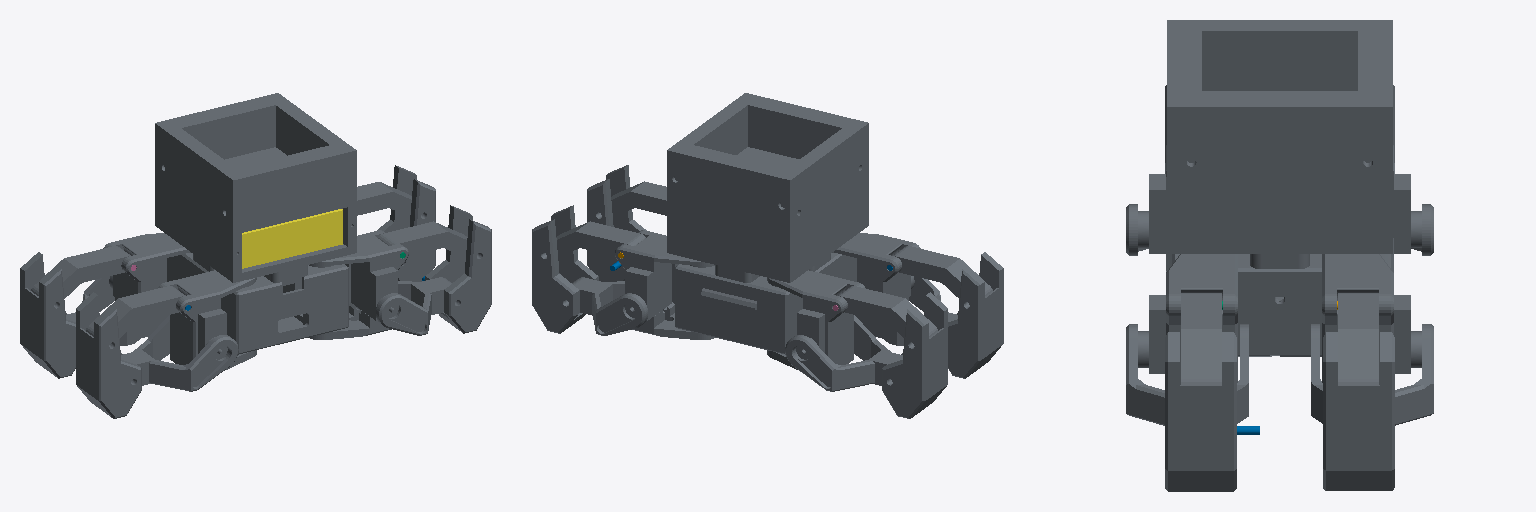
--- What the picture shows (computed from the rendered views, not written in the file) ---
3 views of the same robot in one strip: view 1: azimuth 30°, elevation 25°; view 2: azimuth 150°, elevation 25°; view 3: azimuth 270°, elevation 25° (orthographic).
Model brutus with 44 links and 43 joints (12 revolute, 31 fixed), rooted at chasis_link, posed all joints at 0.
Visible links, largest first — view 1: up_box_link, chasis_link, foot_link_bl, foot_link_fl, foot_link_br, leg_bottom_link_bl, battery, leg_elbow_bl, leg_elbow_fl, leg_elbow_br, leg_bottom_link_br, chasis_cover_link (+8 smaller); view 2: up_box_link, chasis_link, foot_link_fl, foot_link_bl, foot_link_fr, leg_bottom_link_fl, leg_elbow_fl, leg_elbow_bl, leg_elbow_fr, chasis_cover_link, leg_bottom_link_fr, foot_link_br (+7 smaller); view 3: up_box_link, foot_link_br, foot_link_fr, chasis_link, leg_elbow_br, leg_elbow_fr, upper_link_br, upper_link_fr, leg_bottom_link_br, leg_bottom_link_fr, chasis_cover_link, servo_bl_leg (+5 smaller).
Link boxes in pixels (left/top/right/bottom): up_box_link: left=155, top=93, right=356, bottom=282; chasis_link: left=167, top=257, right=348, bottom=354; foot_link_bl: left=76, top=292, right=141, bottom=418; foot_link_fl: left=20, top=252, right=75, bottom=378; foot_link_br: left=425, top=205, right=491, bottom=333; leg_bottom_link_bl: left=121, top=315, right=238, bottom=391; battery: left=242, top=209, right=342, bottom=268; leg_elbow_bl: left=158, top=270, right=256, bottom=369; leg_elbow_fl: left=103, top=233, right=189, bottom=337; leg_elbow_br: left=308, top=230, right=408, bottom=339; leg_bottom_link_br: left=376, top=277, right=451, bottom=335; chasis_cover_link: left=170, top=253, right=348, bottom=305; up_box_link: left=667, top=93, right=868, bottom=282; chasis_link: left=675, top=257, right=856, bottom=354; foot_link_fl: left=882, top=292, right=947, bottom=418; foot_link_bl: left=948, top=252, right=1003, bottom=378; foot_link_fr: left=532, top=205, right=598, bottom=333; leg_bottom_link_fl: left=785, top=315, right=902, bottom=391; leg_elbow_fl: left=767, top=270, right=865, bottom=369; leg_elbow_bl: left=834, top=233, right=920, bottom=337; leg_elbow_fr: left=615, top=230, right=714, bottom=339; chasis_cover_link: left=675, top=253, right=852, bottom=305; leg_bottom_link_fr: left=572, top=277, right=647, bottom=335; foot_link_br: left=587, top=165, right=646, bottom=281; up_box_link: left=1167, top=20, right=1392, bottom=253; foot_link_br: left=1165, top=332, right=1236, bottom=491; foot_link_fr: left=1323, top=332, right=1394, bottom=490; chasis_link: left=1238, top=238, right=1393, bottom=356; leg_elbow_br: left=1166, top=254, right=1237, bottom=384; leg_elbow_fr: left=1322, top=254, right=1393, bottom=384; upper_link_br: left=1181, top=293, right=1221, bottom=384; upper_link_fr: left=1338, top=293, right=1378, bottom=384; leg_bottom_link_br: left=1126, top=324, right=1248, bottom=425; leg_bottom_link_fr: left=1311, top=324, right=1433, bottom=425; chasis_cover_link: left=1172, top=254, right=1387, bottom=301; servo_bl_leg: left=1138, top=174, right=1166, bottom=253.
Size in the robot's own frame: 0.2163 by 0.1025 by 0.1103 metres.
Meshes: 31 distinct files referenced, 31 mesh visuals loaded (31 Collada DAE).

robot.urdf — brutus:
<?xml version="1.0" ?>
<robot name="brutus">
  <!--Generated by RobotCAD, a ROS Workbench for FreeCAD (https://github.com/drfenixion/freecad.robotcad)-->
  <link name="chasis_link">
    <visual>
      <!--chasis_solid001/chasis_solid001.-->
      <origin rpy="0 0 0" xyz="0.0 0.0 0.0"/>
      <geometry>
        <mesh filename="package://brutus/meshes/robot_chasis_solid_gh7xs0.dae"/>
      </geometry>
    </visual>
    <collision>
      <!--chasis_solid-->
      <origin rpy="0 0 0" xyz="0.0 0.0 0.0"/>
      <geometry>
        <mesh filename="package://brutus/meshes/robot_chasis_solid_wpln47.dae"/>
      </geometry>
    </collision>
    <inertial>
      <mass value="0.104"/>
      <origin rpy="0 0 0" xyz="0.0 0.0 0.0"/>
      <inertia ixx="0.0" ixy="0.0" ixz="0.0" iyy="0.0" iyz="0.0" izz="0.0"/>
    </inertial>
  </link>
  <link name="chasis_cover_link">
    <visual>
      <!--chasis_top001/chasis_top001.-->
      <origin rpy="0 0 3.141592653589793" xyz="0.0 0.0 0.0"/>
      <geometry>
        <mesh filename="package://brutus/meshes/robot_chasis_top_rj7fnb.dae"/>
      </geometry>
    </visual>
    <collision>
      <!--chasis_top-->
      <origin rpy="0 0 0" xyz="0.0 0.0 0.0"/>
      <geometry>
        <mesh filename="package://brutus/meshes/robot_chasis_top_9hl3hy.dae"/>
      </geometry>
    </collision>
  </link>
  <link name="spacer_fr">
    <visual>
      <!--spacer_body001/spacer_body002.-->
      <origin rpy="0 0 0" xyz="0.0 0.0 0.0"/>
      <geometry>
        <mesh filename="package://brutus/meshes/robot_spacer_body_pfkzkm.dae"/>
      </geometry>
    </visual>
    <collision>
      <!--spacer_body001/spacer_body002.-->
      <origin rpy="0 0 0" xyz="0.0 0.0 0.0"/>
      <geometry>
        <mesh filename="package://brutus/meshes/robot_spacer_body_ykg5ow.dae"/>
      </geometry>
    </collision>
  </link>
  <link name="spacer_fl">
    <visual>
      <!--spacer_body003/spacer_body004.-->
      <origin rpy="0 0 0" xyz="0.0 0.0 0.0"/>
      <geometry>
        <mesh filename="package://brutus/meshes/robot_spacer_body_qm9ood.dae"/>
      </geometry>
    </visual>
    <collision>
      <!--spacer_body003/spacer_body004.-->
      <origin rpy="0 0 0" xyz="0.0 0.0 0.0"/>
      <geometry>
        <mesh filename="package://brutus/meshes/robot_spacer_body_qdzdlv.dae"/>
      </geometry>
    </collision>
  </link>
  <link name="spacer_br">
    <visual>
      <!--spacer_body005/spacer_body006.-->
      <origin rpy="0 0 0" xyz="0.0 0.0 0.0"/>
      <geometry>
        <mesh filename="package://brutus/meshes/robot_spacer_body_rywx4e.dae"/>
      </geometry>
    </visual>
    <collision>
      <!--spacer_body005/spacer_body006.-->
      <origin rpy="0 0 0" xyz="0.0 0.0 0.0"/>
      <geometry>
        <mesh filename="package://brutus/meshes/robot_spacer_body_sptmy1.dae"/>
      </geometry>
    </collision>
  </link>
  <link name="spacer_bl">
    <visual>
      <!--spacer_body007/spacer_body008.-->
      <origin rpy="0 0 0" xyz="0.0 0.0 0.0"/>
      <geometry>
        <mesh filename="package://brutus/meshes/robot_spacer_body_epfjej.dae"/>
      </geometry>
    </visual>
    <collision>
      <!--spacer_body007/spacer_body008.-->
      <origin rpy="0 0 0" xyz="0.0 0.0 0.0"/>
      <geometry>
        <mesh filename="package://brutus/meshes/robot_spacer_body_en0t2a.dae"/>
      </geometry>
    </collision>
  </link>
  <link name="leg_elbow_br">
    <visual>
      <!--elbow_br001/elbow_br001.-->
      <origin rpy="0 0 0" xyz="0.0 0.0 0.0"/>
      <geometry>
        <mesh filename="package://brutus/meshes/robot_elbow_br_ijcs8k.dae"/>
      </geometry>
    </visual>
    <collision>
      <!--elbow_br001/elbow_br001.-->
      <origin rpy="0 0 0" xyz="0.0 0.0 0.0"/>
      <geometry>
        <mesh filename="package://brutus/meshes/robot_elbow_br_jcowuw.dae"/>
      </geometry>
    </collision>
  </link>
  <link name="leg_elbow_bl">
    <visual>
      <!--elbow_bl001/elbow_bl001.-->
      <origin rpy="0 0 0" xyz="0.0 0.0 0.0"/>
      <geometry>
        <mesh filename="package://brutus/meshes/robot_elbow_bl_22bifq.dae"/>
      </geometry>
    </visual>
    <collision>
      <!--elbow_bl001/elbow_bl001.-->
      <origin rpy="0 0 0" xyz="0.0 0.0 0.0"/>
      <geometry>
        <mesh filename="package://brutus/meshes/robot_elbow_bl_dyfjfb.dae"/>
      </geometry>
    </collision>
  </link>
  <link name="leg_elbow_fl">
    <visual>
      <!--elbow_fl003/elbow_fl003.elbow_fl001.-->
      <origin rpy="0 0 0" xyz="0.0 0.0 0.0"/>
      <geometry>
        <mesh filename="package://brutus/meshes/robot_elbow_fl_k9nt1j.dae"/>
      </geometry>
    </visual>
    <collision>
      <!--Eje Z-->
      <origin rpy="-1.5707963267948963 0 -1.5707963267948963" xyz="0.0 0.0 0.0"/>
      <geometry>
        <mesh filename="package://brutus/meshes/robot_ejez_rchdmf.dae"/>
      </geometry>
    </collision>
    <collision>
      <!--elbow_fl001/elbow_fl001.-->
      <origin rpy="0 0 0" xyz="0.0 0.0 0.0"/>
      <geometry>
        <mesh filename="package://brutus/meshes/robot_elbow_fl_rbnczm.dae"/>
      </geometry>
    </collision>
    <collision>
      <!--elbow_fl003/elbow_fl003.elbow_fl001.-->
      <origin rpy="0 0 0" xyz="0.0 0.0 0.0"/>
      <geometry>
        <mesh filename="package://brutus/meshes/robot_elbow_fl_busnly.dae"/>
      </geometry>
    </collision>
  </link>
  <link name="leg_elbow_fr">
    <visual>
      <!--elbow_fr003/elbow_fr003.-->
      <origin rpy="0 0 0" xyz="0.0 0.0 0.0"/>
      <geometry>
        <mesh filename="package://brutus/meshes/robot_elbow_fr_nicggp.dae"/>
      </geometry>
    </visual>
    <collision>
      <!--elbow_fr003/elbow_fr003.-->
      <origin rpy="0 0 0" xyz="0.0 0.0 0.0"/>
      <geometry>
        <mesh filename="package://brutus/meshes/robot_elbow_fr_y02wcm.dae"/>
      </geometry>
    </collision>
  </link>
  <link name="leg_upper_axis_br">
    <visual>
      <!--upper_axis001/upper_axis001.-->
      <origin rpy="0 0 0" xyz="0.0 0.0 0.012"/>
      <geometry>
        <cylinder length="0.024" radius="0.0015"/>
      </geometry>
    </visual>
  </link>
  <link name="upper_link_br">
    <visual>
      <!--upper_link001/upper_link001.-->
      <origin rpy="0 0 0" xyz="0.0 0.0 0.0"/>
      <geometry>
        <mesh filename="package://brutus/meshes/robot_upper_link_3mok0l.dae"/>
      </geometry>
    </visual>
  </link>
  <link name="leg_upper_axis_bl">
    <visual>
      <!--upper_axis003/upper_axis003.-->
      <origin rpy="0 0 0" xyz="0.0 0.0 0.012"/>
      <geometry>
        <cylinder length="0.024" radius="0.0015"/>
      </geometry>
    </visual>
  </link>
  <link name="upper_link_bl">
    <visual>
      <!--upper_link003/upper_link003.-->
      <origin rpy="0 0 0" xyz="0.0 0.0 0.0"/>
      <geometry>
        <mesh filename="package://brutus/meshes/robot_upper_link_2rlvkm.dae"/>
      </geometry>
    </visual>
  </link>
  <link name="leg_upper_axis_fl">
    <visual>
      <!--upper_axis005/upper_axis005.-->
      <origin rpy="0 0 0" xyz="0.0 0.0 0.012"/>
      <geometry>
        <cylinder length="0.024" radius="0.0015"/>
      </geometry>
    </visual>
  </link>
  <link name="upper_link_fl">
    <visual>
      <!--upper_link005/upper_link005.-->
      <origin rpy="0 0 0" xyz="0.0 0.0 0.0"/>
      <geometry>
        <mesh filename="package://brutus/meshes/robot_upper_link_umbvcy.dae"/>
      </geometry>
    </visual>
  </link>
  <link name="leg_upper_axis_fr">
    <visual>
      <!--upper_axis007/upper_axis007.-->
      <origin rpy="0 0 0" xyz="0.0 0.0 0.012"/>
      <geometry>
        <cylinder length="0.024" radius="0.0015"/>
      </geometry>
    </visual>
  </link>
  <link name="upper_link_fr">
    <visual>
      <!--upper_link007/upper_link007.-->
      <origin rpy="0 0 0" xyz="0.0 0.0 0.0"/>
      <geometry>
        <mesh filename="package://brutus/meshes/robot_upper_link_ggszxc.dae"/>
      </geometry>
    </visual>
  </link>
  <link name="leg_bottom_axis_br">
    <visual>
      <!--lower_axis002/lower_axis002.-->
      <origin rpy="0 0 0" xyz="0.0 0.0 0.01"/>
      <geometry>
        <cylinder length="0.02" radius="0.002"/>
      </geometry>
    </visual>
    <collision>
      <!--lower_axis002/lower_axis002.-->
      <origin rpy="0 0 0" xyz="0.0 0.0 0.01"/>
      <geometry>
        <cylinder length="0.02" radius="0.002"/>
      </geometry>
    </collision>
  </link>
  <link name="leg_bottom_axis_fl">
    <visual>
      <!--lower_axis004/lower_axis003.-->
      <origin rpy="0 0 0" xyz="0.0 0.0 0.01"/>
      <geometry>
        <cylinder length="0.02" radius="0.002"/>
      </geometry>
    </visual>
    <collision>
      <!--lower_axis004/lower_axis003.-->
      <origin rpy="0 0 0" xyz="0.0 0.0 0.01"/>
      <geometry>
        <cylinder length="0.02" radius="0.002"/>
      </geometry>
    </collision>
  </link>
  <link name="leg_bottom_link_br">
    <visual>
      <!--left_bottom_link001/left_bottom_link001.-->
      <origin rpy="0 0 0" xyz="0.0 0.0 0.0"/>
      <geometry>
        <mesh filename="package://brutus/meshes/robot_left_bottom_link_mwapaw.dae"/>
      </geometry>
    </visual>
  </link>
  <link name="leg_bottom_link_fl">
    <visual>
      <!--left_bottom_link005/left_bottom_link005.-->
      <origin rpy="0 0 0" xyz="0.0 0.0 0.0"/>
      <geometry>
        <mesh filename="package://brutus/meshes/robot_left_bottom_link_54hzm8.dae"/>
      </geometry>
    </visual>
  </link>
  <link name="leg_bottom_axis_bl">
    <visual>
      <!--lower_axis008/lower_axis007.-->
      <origin rpy="0 0 0" xyz="0.0 0.0 0.01"/>
      <geometry>
        <cylinder length="0.02" radius="0.002"/>
      </geometry>
    </visual>
  </link>
  <link name="leg_bottom_link_bl">
    <visual>
      <!--right_bottom_link001/right_bottom_link001.-->
      <origin rpy="0 0 0" xyz="0.0 0.0 0.0"/>
      <geometry>
        <mesh filename="package://brutus/meshes/robot_right_bottom_link_nm1jks.dae"/>
      </geometry>
    </visual>
  </link>
  <link name="leg_bottom_axis_fr">
    <visual>
      <!--lower_axis010/lower_axis009.-->
      <origin rpy="0 0 0" xyz="0.0 0.0 0.01"/>
      <geometry>
        <cylinder length="0.02" radius="0.002"/>
      </geometry>
    </visual>
  </link>
  <link name="leg_bottom_link_fr">
    <visual>
      <!--right_bottom_link003/right_bottom_link003.-->
      <origin rpy="0 0 0" xyz="0.0 0.0 0.0"/>
      <geometry>
        <mesh filename="package://brutus/meshes/robot_right_bottom_link_eam2j3.dae"/>
      </geometry>
    </visual>
  </link>
  <link name="foot_axis_fr">
    <visual>
      <!--foot_axis001/foot_axis001.-->
      <origin rpy="0 0 0" xyz="0.0 0.0 0.0065"/>
      <geometry>
        <cylinder length="0.013" radius="0.0015"/>
      </geometry>
    </visual>
  </link>
  <link name="foot_link_fr">
    <visual>
      <!--foot001/foot001.-->
      <origin rpy="0 0 0" xyz="0.0 0.0 0.0"/>
      <geometry>
        <mesh filename="package://brutus/meshes/robot_foot_6evywk.dae"/>
      </geometry>
    </visual>
  </link>
  <link name="foot_axis_br">
    <visual>
      <!--foot_axis003/foot_axis003.-->
      <origin rpy="0 0 0" xyz="0.0 0.0 0.0065"/>
      <geometry>
        <cylinder length="0.013" radius="0.0015"/>
      </geometry>
    </visual>
  </link>
  <link name="foot_link_br">
    <visual>
      <!--foot003/foot003.-->
      <origin rpy="0 0 0" xyz="0.0 0.0 0.0"/>
      <geometry>
        <mesh filename="package://brutus/meshes/robot_foot_eruimg.dae"/>
      </geometry>
    </visual>
  </link>
  <link name="foot_axis_fl">
    <visual>
      <!--foot_axis005/foot_axis005.-->
      <origin rpy="0 0 0" xyz="0.0 0.0 0.0065"/>
      <geometry>
        <cylinder length="0.013" radius="0.0015"/>
      </geometry>
    </visual>
  </link>
  <link name="foot_link_fl">
    <visual>
      <!--foot005/foot005.-->
      <origin rpy="0 0 0" xyz="0.0 0.0 0.0"/>
      <geometry>
        <mesh filename="package://brutus/meshes/robot_foot_z7rhv3.dae"/>
      </geometry>
    </visual>
  </link>
  <link name="foot_axis_bl">
    <visual>
      <!--foot_axis007/foot_axis007.-->
      <origin rpy="0 0 0" xyz="0.0 0.0 0.0065"/>
      <geometry>
        <cylinder length="0.013" radius="0.0015"/>
      </geometry>
    </visual>
  </link>
  <link name="foot_link_bl">
    <visual>
      <!--foot007/foot007.-->
      <origin rpy="0 0 0" xyz="0.0 0.0 0.0"/>
      <geometry>
        <mesh filename="package://brutus/meshes/robot_foot_wkfqst.dae"/>
      </geometry>
    </visual>
  </link>
  <link name="servo_br_chasis">
    <visual>
      <!--servo001/servo001.-->
      <origin rpy="0 0 0" xyz="0.0 0.0 0.0"/>
      <geometry>
        <mesh filename="package://brutus/meshes/robot_servo_gzkmtc.dae"/>
      </geometry>
    </visual>
    <inertial>
      <mass value="0.009000000000000001"/>
      <origin rpy="0 0 0" xyz="0.0 0.0 0.0"/>
      <inertia ixx="0.0" ixy="0.0" ixz="0.0" iyy="0.0" iyz="0.0" izz="0.0"/>
    </inertial>
  </link>
  <link name="servo_fr_chasis">
    <visual>
      <!--servo003/servo003.-->
      <origin rpy="0 0 0" xyz="0.0 0.0 0.0"/>
      <geometry>
        <mesh filename="package://brutus/meshes/robot_servo_lm7nas.dae"/>
      </geometry>
    </visual>
    <inertial>
      <mass value="0.009000000000000001"/>
      <origin rpy="0 0 0" xyz="0.0 0.0 0.0"/>
      <inertia ixx="0.0" ixy="0.0" ixz="0.0" iyy="0.0" iyz="0.0" izz="0.0"/>
    </inertial>
  </link>
  <link name="servo_bl_chasis">
    <visual>
      <!--servo005/servo005.-->
      <origin rpy="0 0 0" xyz="0.0 0.0 0.0"/>
      <geometry>
        <mesh filename="package://brutus/meshes/robot_servo_uk13q0.dae"/>
      </geometry>
    </visual>
    <inertial>
      <mass value="0.009000000000000001"/>
      <origin rpy="0 0 0" xyz="0.0 0.0 0.0"/>
      <inertia ixx="0.0" ixy="0.0" ixz="0.0" iyy="0.0" iyz="0.0" izz="0.0"/>
    </inertial>
  </link>
  <link name="servo_fl_chasis">
    <visual>
      <!--servo007/servo007.-->
      <origin rpy="0 0 0" xyz="0.0 0.0 0.0"/>
      <geometry>
        <mesh filename="package://brutus/meshes/robot_servo_oiqija.dae"/>
      </geometry>
    </visual>
    <inertial>
      <mass value="0.009000000000000001"/>
      <origin rpy="0 0 0" xyz="0.0 0.0 0.0"/>
      <inertia ixx="0.0" ixy="0.0" ixz="0.0" iyy="0.0" iyz="0.0" izz="0.0"/>
    </inertial>
  </link>
  <link name="servo_br_leg">
    <visual>
      <!--servo009/servo009.-->
      <origin rpy="0 0 0" xyz="0.0 0.0 0.0"/>
      <geometry>
        <mesh filename="package://brutus/meshes/robot_servo_o5juby.dae"/>
      </geometry>
    </visual>
  </link>
  <link name="servo_fr_leg">
    <visual>
      <!--servo011/servo011.-->
      <origin rpy="0 0 0" xyz="0.0 0.0 0.0"/>
      <geometry>
        <mesh filename="package://brutus/meshes/robot_servo_kbicgk.dae"/>
      </geometry>
    </visual>
    <inertial>
      <mass value="0.009000000000000001"/>
      <origin rpy="0 0 0" xyz="0.0 0.0 0.0"/>
      <inertia ixx="0.0" ixy="0.0" ixz="0.0" iyy="0.0" iyz="0.0" izz="0.0"/>
    </inertial>
  </link>
  <link name="servo_bl_leg">
    <visual>
      <!--servo013/servo013.-->
      <origin rpy="0 0 0" xyz="0.0 0.0 0.0"/>
      <geometry>
        <mesh filename="package://brutus/meshes/robot_servo_yposhh.dae"/>
      </geometry>
    </visual>
    <inertial>
      <mass value="0.009000000000000001"/>
      <origin rpy="0 0 0" xyz="0.0 0.0 0.0"/>
      <inertia ixx="0.0" ixy="0.0" ixz="0.0" iyy="0.0" iyz="0.0" izz="0.0"/>
    </inertial>
  </link>
  <link name="servo_fl_leg">
    <visual>
      <!--servo015/servo015.-->
      <origin rpy="0 0 0" xyz="0.0 0.0 0.0"/>
      <geometry>
        <mesh filename="package://brutus/meshes/robot_servo_iojgfp.dae"/>
      </geometry>
    </visual>
    <inertial>
      <mass value="0.009000000000000001"/>
      <origin rpy="0 0 0" xyz="0.0 0.0 0.0"/>
      <inertia ixx="0.0" ixy="0.0" ixz="0.0" iyy="0.0" iyz="0.0" izz="0.0"/>
    </inertial>
  </link>
  <link name="up_box_link">
    <visual>
      <!--up_box001/up_box001.-->
      <origin rpy="0 0 0" xyz="0.0 0.0 0.0"/>
      <geometry>
        <mesh filename="package://brutus/meshes/robot_up_box_hkhjvv.dae"/>
      </geometry>
    </visual>
  </link>
  <link name="battery">
    <visual>
      <!--battery001/battery001.-->
      <origin rpy="0 0 0" xyz="0.028 0.035 0.009"/>
      <geometry>
        <box size="0.056 0.07 0.018"/>
      </geometry>
    </visual>
  </link>





  <joint name="chasis_to_cover" type="fixed">
    <parent link="chasis_link"/>
    <child link="chasis_cover_link"/>
    <origin rpy="0 0 0" xyz="0.0 0.0 0.0208"/>
  </joint>
  <joint name="cover_to_fr_spacer" type="fixed">
    <parent link="chasis_cover_link"/>
    <child link="spacer_fr"/>
    <origin rpy="0 0 0" xyz="0.023 0.023 0.0015"/>
  </joint>
  <joint name="cover_to_fl_spacer" type="fixed">
    <parent link="chasis_cover_link"/>
    <child link="spacer_fl"/>
    <origin rpy="0 0 0" xyz="-0.023 0.023 0.0015"/>
  </joint>
  <joint name="cover_to_br_spacer" type="fixed">
    <parent link="chasis_cover_link"/>
    <child link="spacer_br"/>
    <origin rpy="0 0 0" xyz="0.023 -0.023 0.0015"/>
  </joint>
  <joint name="cover_to_bl_spacer" type="fixed">
    <parent link="chasis_cover_link"/>
    <child link="spacer_bl"/>
    <origin rpy="0 0 0" xyz="-0.023 -0.023 0.0015"/>
  </joint>
  <joint name="spacer_to_leg_elbow_br" type="revolute">
    <parent link="spacer_br"/>
    <child link="leg_elbow_br"/>
    <origin rpy="0 0 0" xyz="0.0 0.0 -0.0175"/>
    <axis xyz="0 0 1"/>
    <limit effort="0.17" lower="-1.0471975511965976" upper="1.0471975511965976" velocity="10.471975511965978"/>
  </joint>
  <joint name="spacer_to_leg_elbow_bl" type="revolute">
    <parent link="spacer_bl"/>
    <child link="leg_elbow_bl"/>
    <origin rpy="0 0 0" xyz="0.0 0.0 -0.0175"/>
    <axis xyz="0 0 1"/>
    <limit effort="0.17" lower="-1.0471975511965976" upper="1.0471975511965976" velocity="10.471975511965978"/>
  </joint>
  <joint name="spacer_to_leg_elbow_fl" type="revolute">
    <parent link="spacer_fl"/>
    <child link="leg_elbow_fl"/>
    <origin rpy="0 0 0" xyz="0.0 0.0 -0.0175"/>
    <axis xyz="0 0 1"/>
    <limit effort="0.17" lower="-1.0471975511965976" upper="1.0471975511965976" velocity="10.471975511965978"/>
  </joint>
  <joint name="spacer_to_leg_elbow_fr" type="revolute">
    <parent link="spacer_fr"/>
    <child link="leg_elbow_fr"/>
    <origin rpy="0 0 0" xyz="0.0 0.0 -0.0175"/>
    <axis xyz="0 0 1"/>
    <limit effort="0.17" lower="-1.0471975511965976" upper="1.0471975511965976" velocity="10.471975511965978"/>
  </joint>
  <joint name="leg_elbow_to_leg_upper_axis_br" type="fixed">
    <parent link="leg_elbow_br"/>
    <child link="leg_upper_axis_br"/>
    <origin rpy="-1.5707963267948968 0 3.141592653589793" xyz="0.036 0.009 0.017"/>
  </joint>
  <joint name="leg_upper_axis_to_upper_link_br" type="fixed">
    <parent link="leg_upper_axis_br"/>
    <child link="upper_link_br"/>
    <origin rpy="0 0 0" xyz="0.0 0.0 0.01197"/>
  </joint>
  <joint name="leg_elbow_to_leg_upper_axis_bl" type="fixed">
    <parent link="leg_elbow_bl"/>
    <child link="leg_upper_axis_bl"/>
    <origin rpy="-1.5707963267948968 0 0" xyz="-0.036 -0.015 0.017"/>
  </joint>
  <joint name="leg_upper_axis_to_upper_link_bl" type="fixed">
    <parent link="leg_upper_axis_bl"/>
    <child link="upper_link_bl"/>
    <origin rpy="0 0 0" xyz="0.0 0.0 0.01197"/>
  </joint>
  <joint name="leg_upper_axis_to_upper_link_fl" type="fixed">
    <parent link="leg_upper_axis_fl"/>
    <child link="upper_link_fl"/>
    <origin rpy="0 0 0" xyz="0.0 0.0 0.01197"/>
  </joint>
  <joint name="leg_elbow_to_leg_upper_axis_fl" type="fixed">
    <parent link="leg_elbow_fl"/>
    <child link="leg_upper_axis_fl"/>
    <origin rpy="-1.5707963267948963 0 0" xyz="-0.036 -0.009 0.017"/>
  </joint>
  <joint name="leg_elbow_to_leg_upper_axis_fr" type="fixed">
    <parent link="leg_elbow_fr"/>
    <child link="leg_upper_axis_fr"/>
    <origin rpy="-1.5707963267948968 0 3.141592653589793" xyz="0.036 0.015 0.017"/>
  </joint>
  <joint name="leg_upper_axis_to_upper_link_fr" type="fixed">
    <parent link="leg_upper_axis_fr"/>
    <child link="upper_link_fr"/>
    <origin rpy="0 0 0" xyz="0.0 0.0 0.01197"/>
  </joint>
  <joint name="leg_elbow_to_leg_bottom_axis_br" type="fixed">
    <parent link="leg_elbow_br"/>
    <child link="leg_bottom_axis_br"/>
    <origin rpy="1.5707963267948963 0 0" xyz="0.02425 0.0 -0.0049"/>
  </joint>
  <joint name="leg_elbow_to_leg_bottom_axis_fl" type="fixed">
    <parent link="leg_elbow_fl"/>
    <child link="leg_bottom_axis_fl"/>
    <origin rpy="1.5707963267948968 0 3.141592653589793" xyz="-0.024 0.0 -0.0049"/>
  </joint>
  <joint name="leg_bottom_axis_to_leg_bottom_link_br" type="revolute">
    <parent link="leg_bottom_axis_br"/>
    <child link="leg_bottom_link_br"/>
    <origin rpy="0 0 0" xyz="0.0 0.0 0.0261"/>
    <axis xyz="0 0 1"/>
    <limit effort="0.17" lower="-1.0471975511965976" upper="1.0471975511965976" velocity="10.471975511965978"/>
  </joint>
  <joint name="leg_bottom_axis_to_leg_bottom_link_fl" type="revolute">
    <parent link="leg_bottom_axis_fl"/>
    <child link="leg_bottom_link_fl"/>
    <origin rpy="0 0 0" xyz="0.0 0.0 0.0261"/>
    <axis xyz="0 0 1"/>
    <limit effort="0.17" lower="-1.0471975511965976" upper="1.0471975511965976" velocity="10.471975511965978"/>
  </joint>
  <joint name="leg_bottom_axis_to_leg_bottom_link_bl" type="revolute">
    <parent link="leg_bottom_axis_bl"/>
    <child link="leg_bottom_link_bl"/>
    <origin rpy="0 0 0" xyz="0.0 0.0 0.0261"/>
    <axis xyz="0 0 1"/>
    <limit effort="0.17" lower="-1.0471975511965976" upper="1.0471975511965976" velocity="10.471975511965978"/>
  </joint>
  <joint name="leg_elbow_to_leg_bottom_axis_bl" type="fixed">
    <parent link="leg_elbow_bl"/>
    <child link="leg_bottom_axis_bl"/>
    <origin rpy="1.5707963267948963 0 0" xyz="-0.024 0.0 -0.0049"/>
  </joint>
  <joint name="leg_elbow_to_leg_bottom_axis_fr" type="fixed">
    <parent link="leg_elbow_fr"/>
    <child link="leg_bottom_axis_fr"/>
    <origin rpy="1.5707963267948968 0 -3.141592653589793" xyz="0.024 0.0 -0.0049"/>
  </joint>
  <joint name="leg_bottom_axis_to_leg_bottom_link_fr" type="revolute">
    <parent link="leg_bottom_axis_fr"/>
    <child link="leg_bottom_link_fr"/>
    <origin rpy="0 0 0" xyz="0.0 0.0 0.0261"/>
    <axis xyz="0 0 1"/>
    <limit effort="0.17" lower="-1.0471975511965976" upper="1.0471975511965976" velocity="10.471975511965978"/>
  </joint>
  <joint name="leg_bottom_link_to_foot_axis_fr" type="fixed">
    <parent link="leg_bottom_link_fr"/>
    <child link="foot_axis_fr"/>
    <origin rpy="0 0 0" xyz="-0.042 -0.01 -0.02935"/>
  </joint>
  <joint name="foot_axis_to_foot_link_fr" type="revolute">
    <parent link="foot_axis_fr"/>
    <child link="foot_link_fr"/>
    <origin rpy="0 0 0" xyz="0.0 0.0 0.0065"/>
    <axis xyz="0 0 1"/>
    <limit effort="-0.17" lower="-1.0471975511965976" upper="1.0471975511965976" velocity="10.471975511965978"/>
  </joint>
  <joint name="leg_bottom_link_to_foot_axis_br" type="fixed">
    <parent link="leg_bottom_link_br"/>
    <child link="foot_axis_br"/>
    <origin rpy="3.141592653589793 0 3.141592653589793" xyz="0.042 -0.01 -0.02935"/>
  </joint>
  <joint name="foot_axis_to_foot_link_br" type="revolute">
    <parent link="foot_axis_br"/>
    <child link="foot_link_br"/>
    <origin rpy="0 0 0" xyz="0.0 0.0 -0.0065"/>
    <axis xyz="0 0 1"/>
    <limit effort="0.17" lower="-1.0471975511965976" upper="1.0471975511965976" velocity="10.471975511965978"/>
  </joint>
  <joint name="leg_bottom_link_to_foot_axis_fl" type="fixed">
    <parent link="leg_bottom_link_fl"/>
    <child link="foot_axis_fl"/>
    <origin rpy="3.141592653589793 0 3.141592653589793" xyz="0.042 -0.01 -0.01635"/>
  </joint>
  <joint name="foot_axis_to_foot_link_fl" type="revolute">
    <parent link="foot_axis_fl"/>
    <child link="foot_link_fl"/>
    <origin rpy="0 0 0" xyz="0.0 0.0 0.0065"/>
    <axis xyz="0 0 1"/>
    <limit effort="0.17" lower="-1.0471975511965976" upper="1.0471975511965976" velocity="10.471975511965978"/>
  </joint>
  <joint name="leg_bottom_link_to_foot_axis_bl" type="fixed">
    <parent link="leg_bottom_link_bl"/>
    <child link="foot_axis_bl"/>
    <origin rpy="0 0 0" xyz="-0.042 -0.01 -0.02935"/>
  </joint>
  <joint name="foot_axis_to_foot_link_bl" type="revolute">
    <parent link="foot_axis_bl"/>
    <child link="foot_link_bl"/>
    <origin rpy="0 0 0" xyz="0.0 0.0 0.0065"/>
    <axis xyz="0 0 1"/>
    <limit effort="0.17" lower="-1.0471975511965976" upper="1.0471975511965976" velocity="10.471975511965978"/>
  </joint>
  <joint name="chasis_to_servo_br" type="fixed">
    <parent link="chasis_link"/>
    <child link="servo_br_chasis"/>
    <origin rpy="3.141592653589793 0 -1.5707963267948968" xyz="-0.023 -0.0168 0.00035"/>
  </joint>
  <joint name="chasis_to_servo_fr" type="fixed">
    <parent link="chasis_link"/>
    <child link="servo_fr_chasis"/>
    <origin rpy="3.141592653589793 0 1.5707963267948968" xyz="-0.023 0.0168 0.00035"/>
  </joint>
  <joint name="chasis_to_servo_bl" type="fixed">
    <parent link="chasis_link"/>
    <child link="servo_bl_chasis"/>
    <origin rpy="3.141592653589793 0 1.5707963267948968" xyz="0.023 0.0168 0.00035"/>
  </joint>
  <joint name="chasis_to_servo_fl" type="fixed">
    <parent link="chasis_link"/>
    <child link="servo_fl_chasis"/>
    <origin rpy="3.141592653589793 0 -1.5707963267948968" xyz="0.023 -0.0168 0.00035"/>
  </joint>
  <joint name="elbow_to_servo_br" type="fixed">
    <parent link="leg_elbow_br"/>
    <child link="servo_br_leg"/>
    <origin rpy="1.5707963267948966 1.5707963267948963 0" xyz="0.02425 -0.0117 0.00125"/>
  </joint>
  <joint name="elbow_to_servo_fr" type="fixed">
    <parent link="leg_elbow_fr"/>
    <child link="servo_fr_leg"/>
    <origin rpy="-1.5707963267948966 1.5707963267948963 0" xyz="0.02425 0.0117 0.00125"/>
  </joint>
  <joint name="elbow_to_servo_bl" type="fixed">
    <parent link="leg_elbow_bl"/>
    <child link="servo_bl_leg"/>
    <origin rpy="1.5707963267948966 1.5707963267948963 0" xyz="-0.02425 -0.0117 0.00125"/>
  </joint>
  <joint name="elbow_to_servo_fl" type="fixed">
    <parent link="leg_elbow_fl"/>
    <child link="servo_fl_leg"/>
    <origin rpy="-1.5707963267948966 1.5707963267948963 0" xyz="-0.02425 0.0117 0.00125"/>
  </joint>
  <joint name="cover_to_box" type="fixed">
    <parent link="chasis_cover_link"/>
    <child link="up_box_link"/>
    <origin rpy="0 0 0" xyz="0.0 0.0 0.008"/>
  </joint>
  <joint name="box_to_battery" type="fixed">
    <parent link="up_box_link"/>
    <child link="battery"/>
    <origin rpy="0 0 0" xyz="-0.028 -0.035 0.005"/>
  </joint>
</robot>
